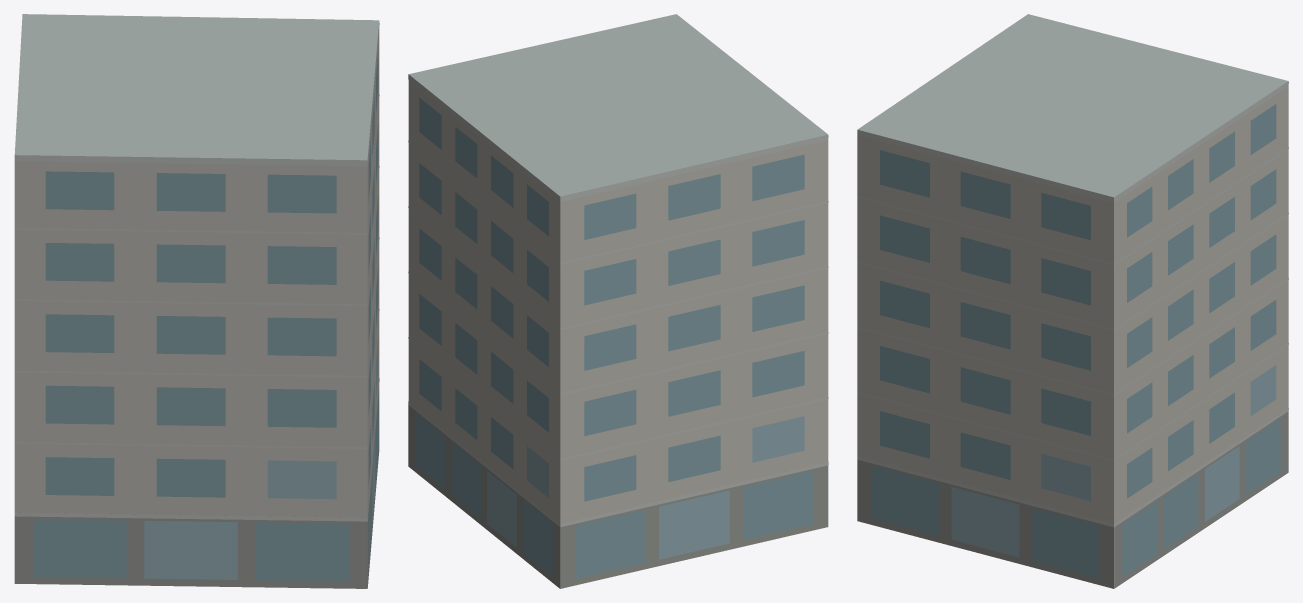
File: survey-upis-33016526.glb
3 views of the same model, side by side, from view 1: azimuth 30°, elevation 25°; view 2: azimuth 150°, elevation 25°; view 3: azimuth 270°, elevation 25° (orthographic). The views are drawn at different scales.
Parts seen in each view (by area): view 1: survey-upis-33016526.tmp; view 2: survey-upis-33016526.tmp; view 3: survey-upis-33016526.tmp.
Boxes of the visible parts, x1,y1,x2,y2 form: survey-upis-33016526.tmp: [14, 14, 379, 588]; survey-upis-33016526.tmp: [408, 14, 828, 588]; survey-upis-33016526.tmp: [857, 14, 1288, 588].
Bounding box in the file's own units: 17.11 × 17 × 17.
